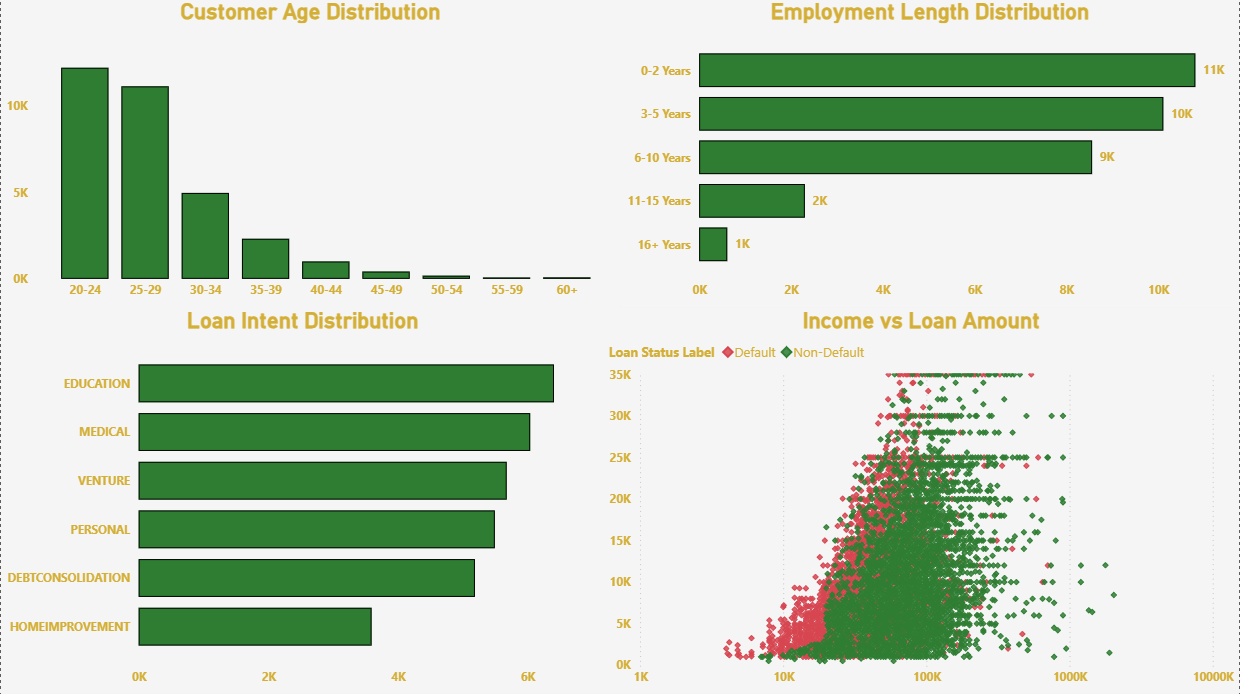

The page's visual inventory and layout, read from the dashboard file:
{"tool":"powerbi","page":{"name":"Cusmoter Analysis ","canvas":[1280,720],"ordinal":2},"visuals":[{"type":"columnChart","title":"Customer Age Distribution","fields":{"Y":["Measurement.Total_customer"],"Category":["credit_risk_dataset.Age Group"]},"box":[0,0,640,320],"z":0},{"type":"scatterChart","title":"Income vs Loan Amount","fields":{"X":["credit_risk_dataset.person_income"],"Y":["credit_risk_dataset.loan_amnt"],"Series":["credit_risk_dataset.Loan Status Label"]},"box":[624,320,656,400],"z":1000},{"type":"clusteredBarChart","title":"Employment Length Distribution","fields":{"Category":["credit_risk_dataset.Employment Group"],"Y":["CountNonNull(credit_risk_dataset.person_emp_length)"]},"box":[640,0,640,320],"z":2000},{"type":"clusteredBarChart","title":"Loan Intent Distribution","fields":{"Category":["credit_risk_dataset.loan_intent"],"Y":["CountNonNull(credit_risk_dataset.loan_intent)"]},"box":[0,320,624,400],"z":3000}]}

Visuals, with their boxes in screenshot pixels (x1, y1, x2, y2), scaled from the page's 1280x720 canvas onto the 1240x694 screenshot:
"Customer Age Distribution" columnChart: [0,0,620,308]
"Income vs Loan Amount" scatterChart: [604,308,1239,693]
"Employment Length Distribution" clusteredBarChart: [620,0,1239,308]
"Loan Intent Distribution" clusteredBarChart: [0,308,604,693]
